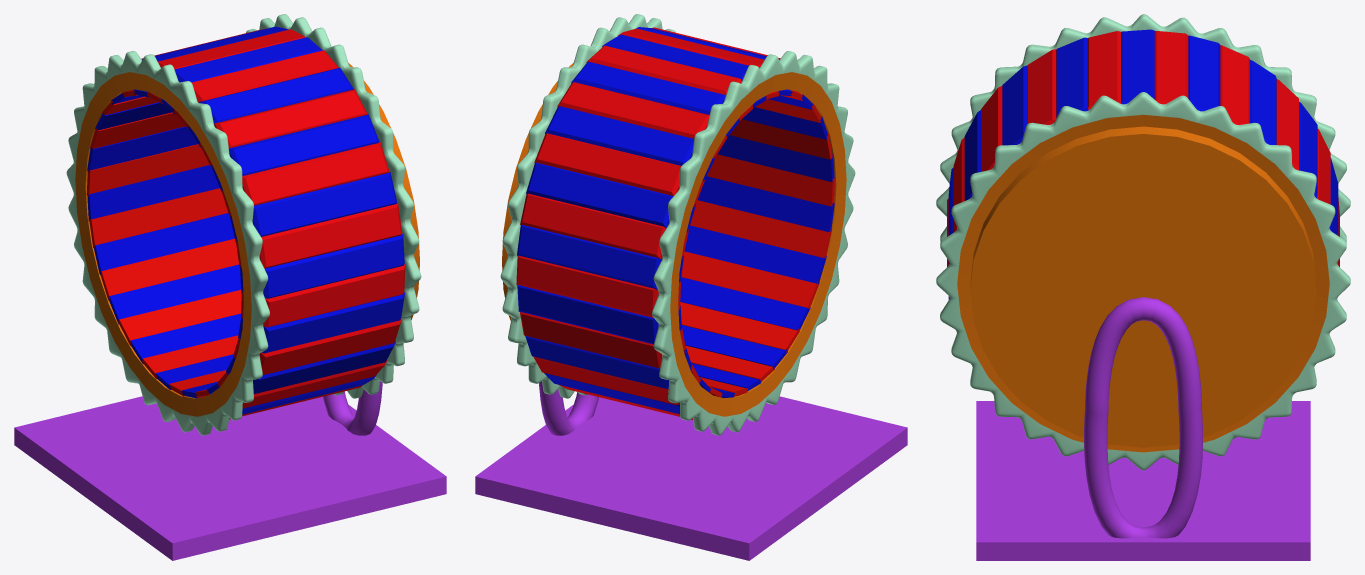
Rendered from Mouse Wheel_Set_9.fbx.
3 views of the same model, side by side, from view 1: azimuth 30°, elevation 25°; view 2: azimuth 150°, elevation 25°; view 3: azimuth 270°, elevation 25° (orthographic). The views are drawn at different scales.
Visible parts, largest first — view 1: Cylinder.049, BezierCircle.001; view 2: Cylinder.049, BezierCircle.001; view 3: Cylinder.049, BezierCircle.001.
Boxes of the visible parts, x1=… form: Cylinder.049: x1=66, y1=14, x2=421, y2=435; BezierCircle.001: x1=14, y1=381, x2=446, y2=560; Cylinder.049: x1=500, y1=14, x2=855, y2=435; BezierCircle.001: x1=475, y1=381, x2=907, y2=560; Cylinder.049: x1=936, y1=14, x2=1350, y2=470; BezierCircle.001: x1=976, y1=297, x2=1310, y2=560.
Bounding box in the file's own units: 200 × 292 × 248.
